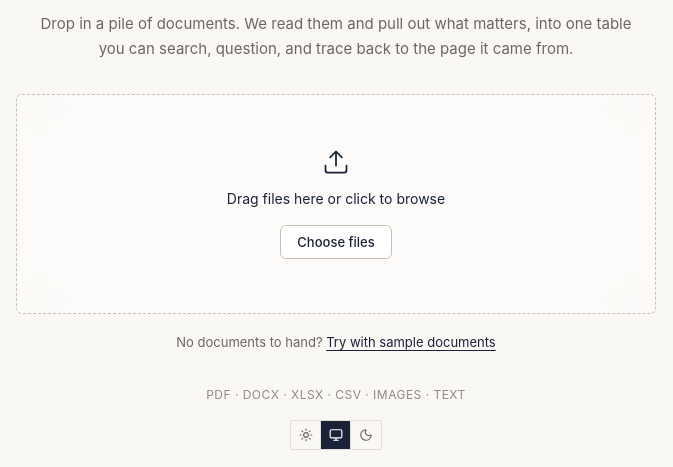
Test: UploadScreen, first run › explains a failure to start instead of leaving the screen inert
Click the button "No documents to hand? Try with sample documents".
click(336, 342)  # box x1=168 y1=330 x2=504 y2=354
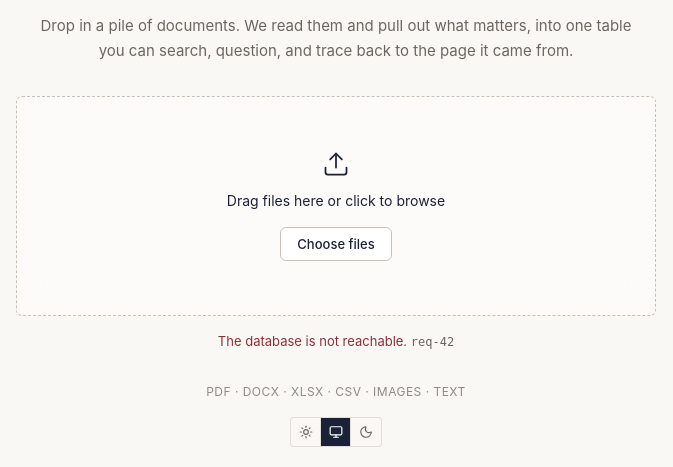
Now the message shows "database is not reachable", box x1=218 y1=333 x2=407 y2=349
Now the message shows "req-42", box x1=411 y1=335 x2=454 y2=349
